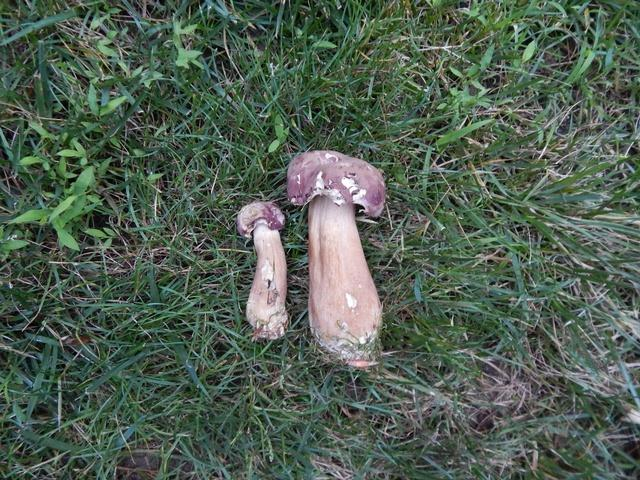poisonous_mushroom: (285, 148, 387, 368), (235, 200, 289, 343)
